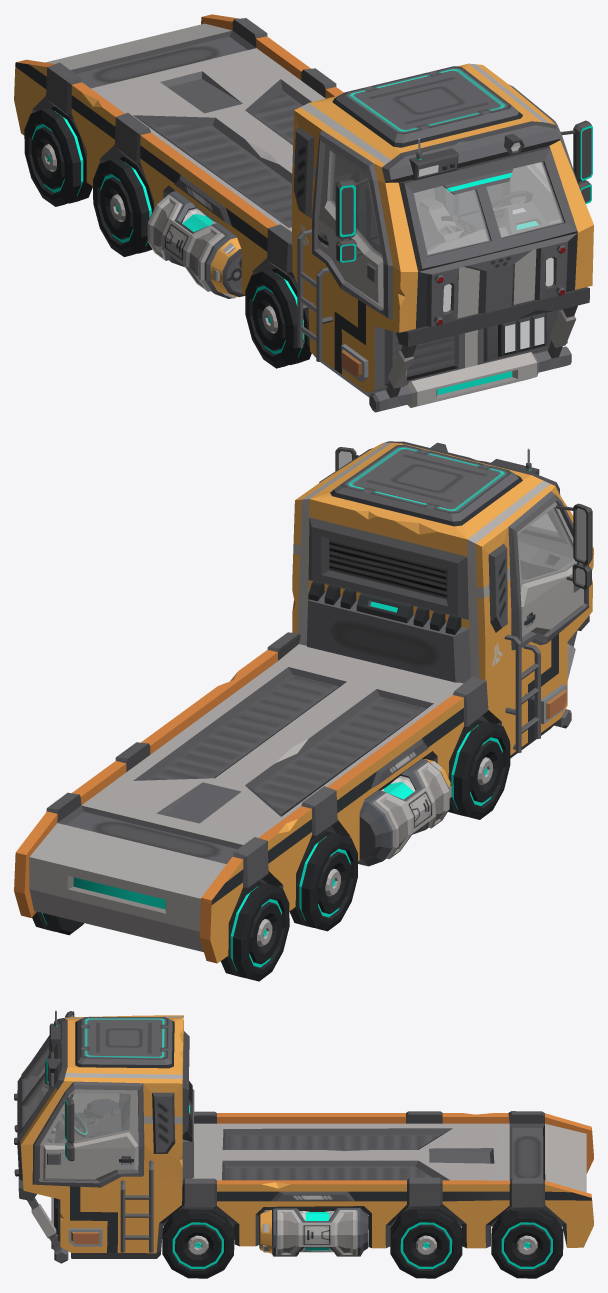
The model's file is SM_Veh_Truck_01.fbx.
3 renders of one model, top to bottom at view 1: azimuth 30°, elevation 25°; view 2: azimuth 150°, elevation 25°; view 3: azimuth 270°, elevation 25°, orthographic. The views are drawn at different scales.
Parts seen in each view (by area): view 1: SM_Veh_Truck_01, SM_Veh_Truck_01_Door_R_Glass_01; view 2: SM_Veh_Truck_01, SM_Veh_Truck_01_Door_R_Glass_01; view 3: SM_Veh_Truck_01, SM_Veh_Truck_01_Door_L_Glass_01.
Boxes of the visible parts, x1,y1,x2,y2 form: SM_Veh_Truck_01: (14, 14, 593, 412); SM_Veh_Truck_01_Door_R_Glass_01: (330, 152, 382, 258); SM_Veh_Truck_01: (14, 441, 593, 981); SM_Veh_Truck_01_Door_R_Glass_01: (518, 508, 575, 582); SM_Veh_Truck_01: (14, 1010, 593, 1278); SM_Veh_Truck_01_Door_L_Glass_01: (45, 1093, 130, 1144).
Size of the model in its own units: 356 by 379 by 946.
